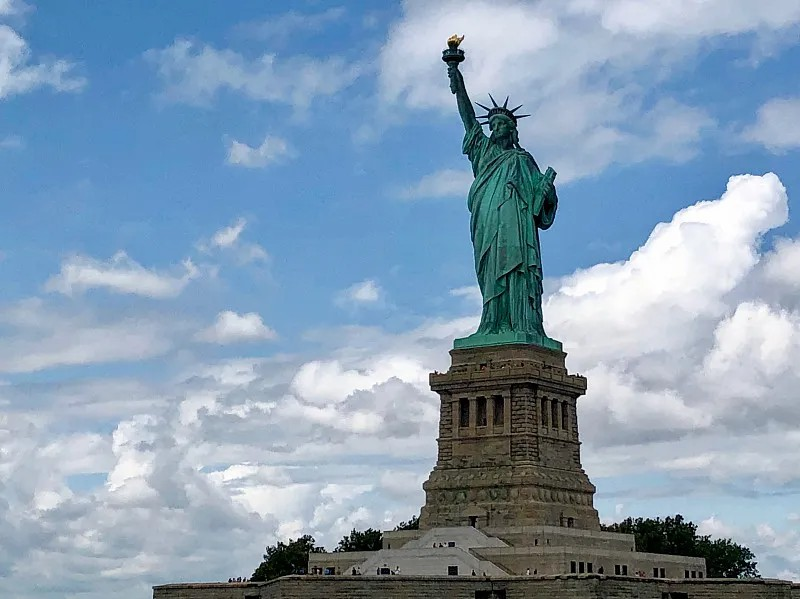SL: (419, 34, 600, 530)
